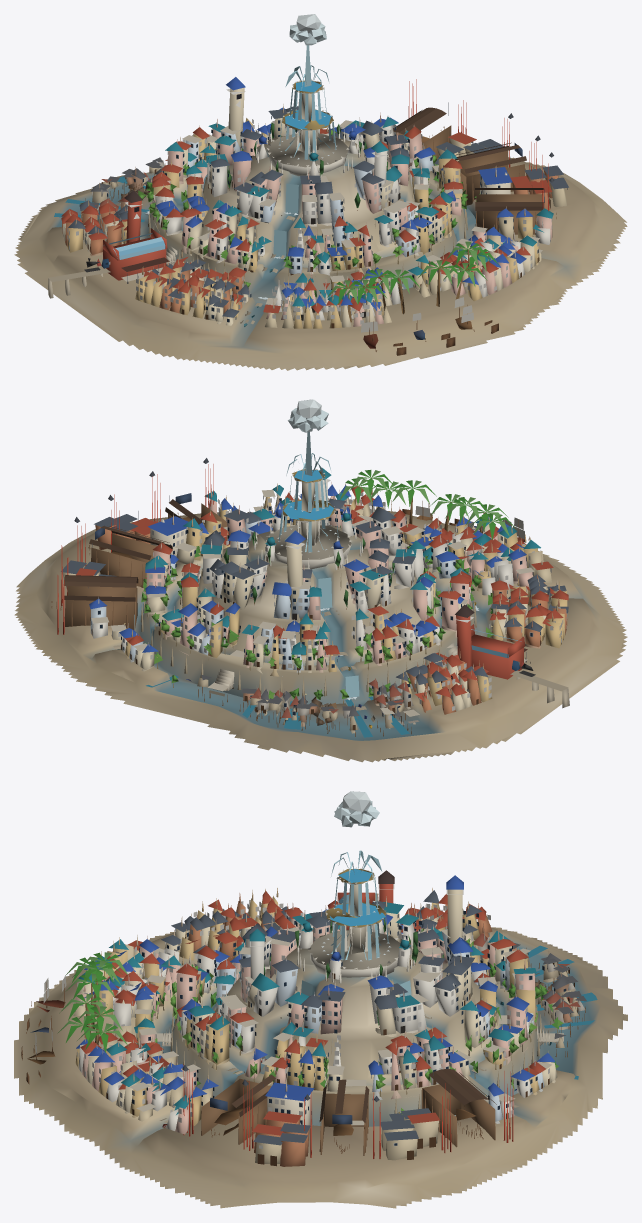
3 renders of one model, top to bottom at view 1: azimuth 30°, elevation 25°; view 2: azimuth 150°, elevation 25°; view 3: azimuth 270°, elevation 25°, orthographic. The views are drawn at different scales.
Visible parts, largest first — view 1: BASE, VILLE_2, VILLE_4, VILLE_3; view 2: BASE, VILLE_2, VILLE_3, VILLE_4; view 3: BASE, VILLE_2, VILLE_3, VILLE_4.
Boxes of the visible parts, left/top/right/bottom form: BASE: left=14, top=14, right=627, bottom=370; VILLE_2: left=61, top=79, right=553, bottom=341; VILLE_4: left=226, top=77, right=388, bottom=351; VILLE_3: left=80, top=116, right=556, bottom=326; BASE: left=14, top=399, right=627, bottom=762; VILLE_2: left=51, top=478, right=568, bottom=714; VILLE_3: left=76, top=458, right=476, bottom=728; VILLE_4: left=200, top=468, right=529, bottom=621; BASE: left=14, top=791, right=627, bottom=1208; VILLE_2: left=26, top=888, right=535, bottom=1152; VILLE_3: left=162, top=910, right=572, bottom=1150; VILLE_4: left=31, top=875, right=463, bottom=1036.
Size of the model in its own units: 68.92 by 29.28 by 61.
